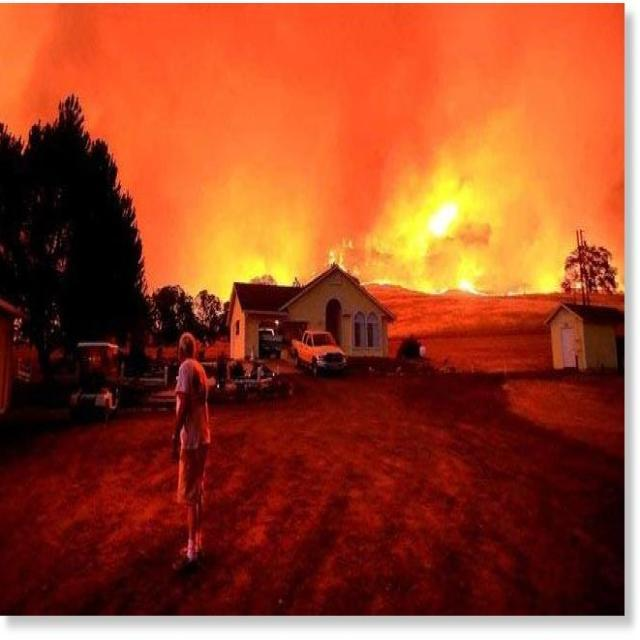Fire: (433, 250, 478, 296), (418, 202, 468, 240)
Smoke: (120, 22, 610, 270)
